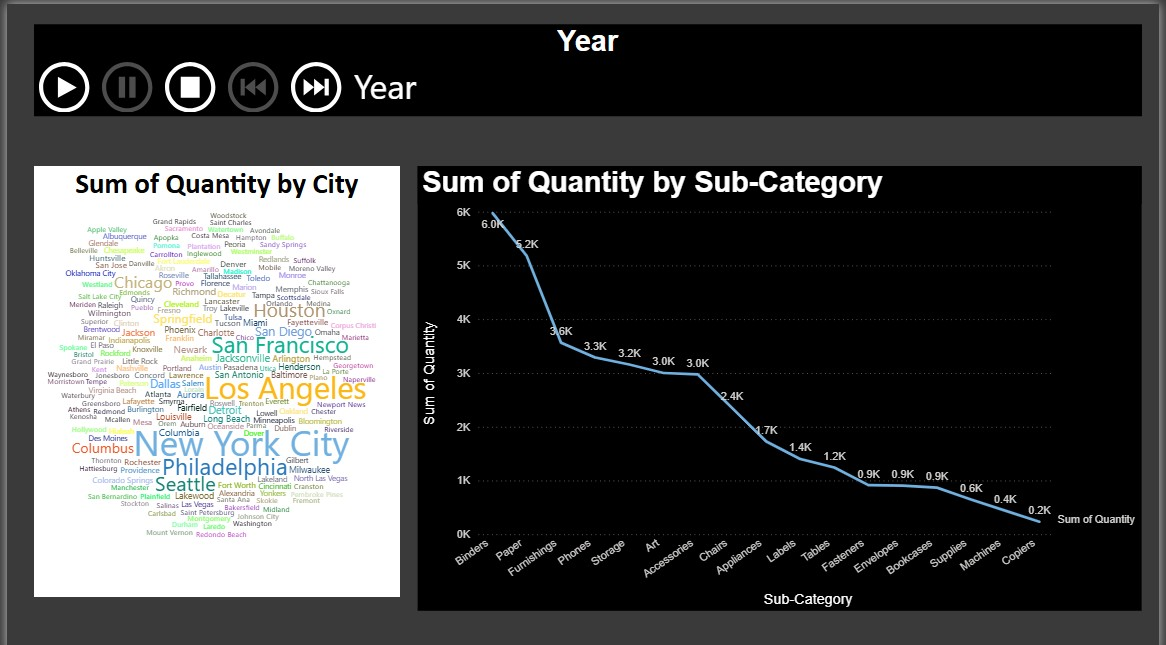

This screenshot's page, from the dashboard's own definition file:
{"tool":"powerbi","page":{"name":"Quantity","canvas":[1280,720],"ordinal":2},"visuals":[{"type":"WordCloud1447959067750","fields":{"Values":["Sum(Sample - Superstore.Quantity)"],"Category":["Sample - Superstore.City"]},"box":[30,180,406,478],"z":0},{"type":"PBI_CV_16948668_E17D_454B_8664_2F2C470EA8C1","fields":{"category":["Sample - Superstore.Order Date.Variation.Date Hierarchy.Year","Sample - Superstore.Order Date.Variation.Date Hierarchy.Quarter","Sample - Superstore.Order Date.Variation.Date Hierarchy.Month","Sample - Superstore.Order Date.Variation.Date Hierarchy.Day"]},"box":[30,22,1230,102],"z":1000},{"type":"lineChart","fields":{"Category":["Sample - Superstore.Sub-Category"],"Y":["Sum(Sample - Superstore.Quantity)"]},"box":[456,179.8,804.7,494.6],"z":2000}]}

Visuals, with their boxes in screenshot pixels (x1, y1, x2, y2), scaled from the page's 1280x720 canvas onto the 1166x645 screenshot:
WordCloud1447959067750 - Sum(Sample - Superstore.Quantity) x Sample - Superstore.City: (27,161,397,589)
PBI_CV_16948668_E17D_454B_8664_2F2C470EA8C1 - Sample - Superstore.Order Date.Variation.Date Hierarchy.Year x Sample - Superstore.Order Date.Variation.Date Hierarchy.Quarter: (27,20,1148,111)
lineChart - Sample - Superstore.Sub-Category x Sum(Sample - Superstore.Quantity): (415,161,1148,604)
